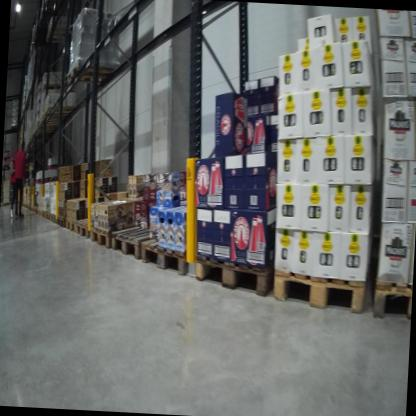pallet: (191, 234, 285, 299), (268, 263, 367, 313), (139, 225, 212, 284), (109, 215, 176, 264), (361, 272, 411, 320), (63, 53, 126, 85), (75, 207, 128, 242), (90, 215, 127, 254), (41, 104, 80, 118), (64, 212, 86, 234), (42, 23, 65, 44), (54, 211, 66, 231), (48, 207, 57, 224), (44, 207, 50, 220), (3, 201, 9, 207), (0, 200, 4, 208)
